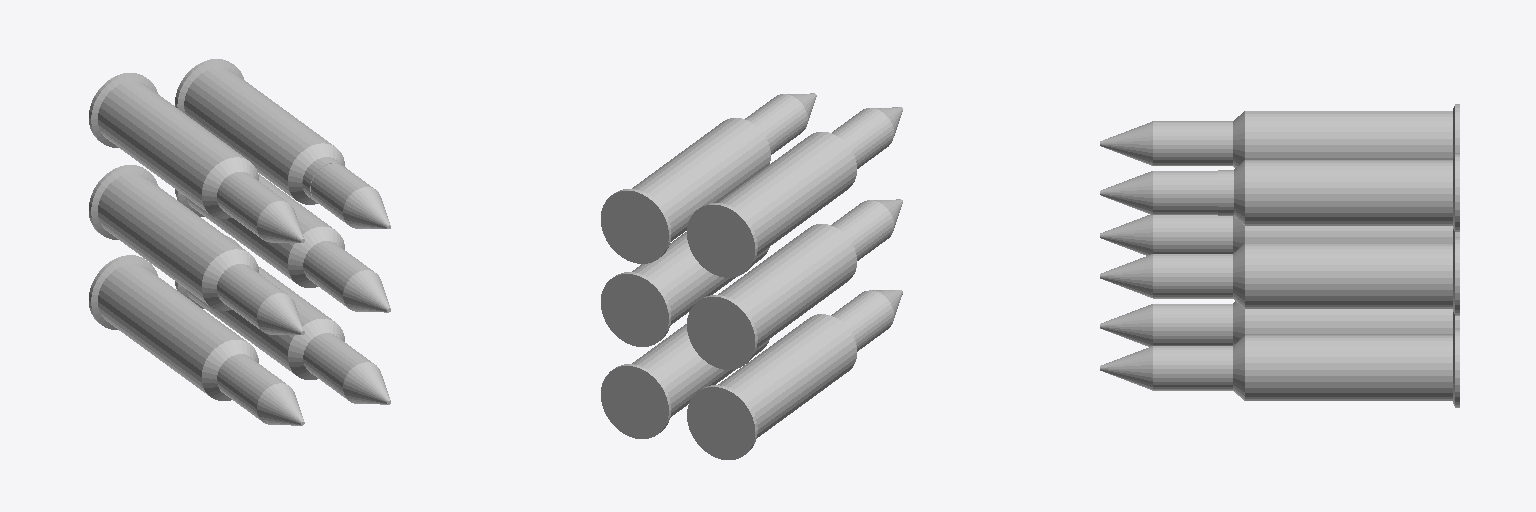
Rendered from Ammo2.obj.
3 renders of one model, left to right at view 1: azimuth 30°, elevation 25°; view 2: azimuth 150°, elevation 25°; view 3: azimuth 270°, elevation 25°, orthographic.
Visible parts, largest first — view 1: Cylinder.002, Cylinder; view 2: Cylinder.002, Cylinder; view 3: Cylinder.002, Cylinder, Cylinder.001.
Boxes of the visible parts, box(x1,y1,x2,y2) form: Cylinder.002: box(89, 73, 390, 425); Cylinder: box(175, 59, 390, 228); Cylinder.002: box(601, 107, 902, 459); Cylinder: box(601, 93, 816, 263); Cylinder.002: box(1100, 104, 1459, 407); Cylinder: box(1100, 154, 1459, 231); Cylinder.001: box(1218, 170, 1233, 215).
Bounding box in the file's own units: 26.9 × 42.19 × 54.23.